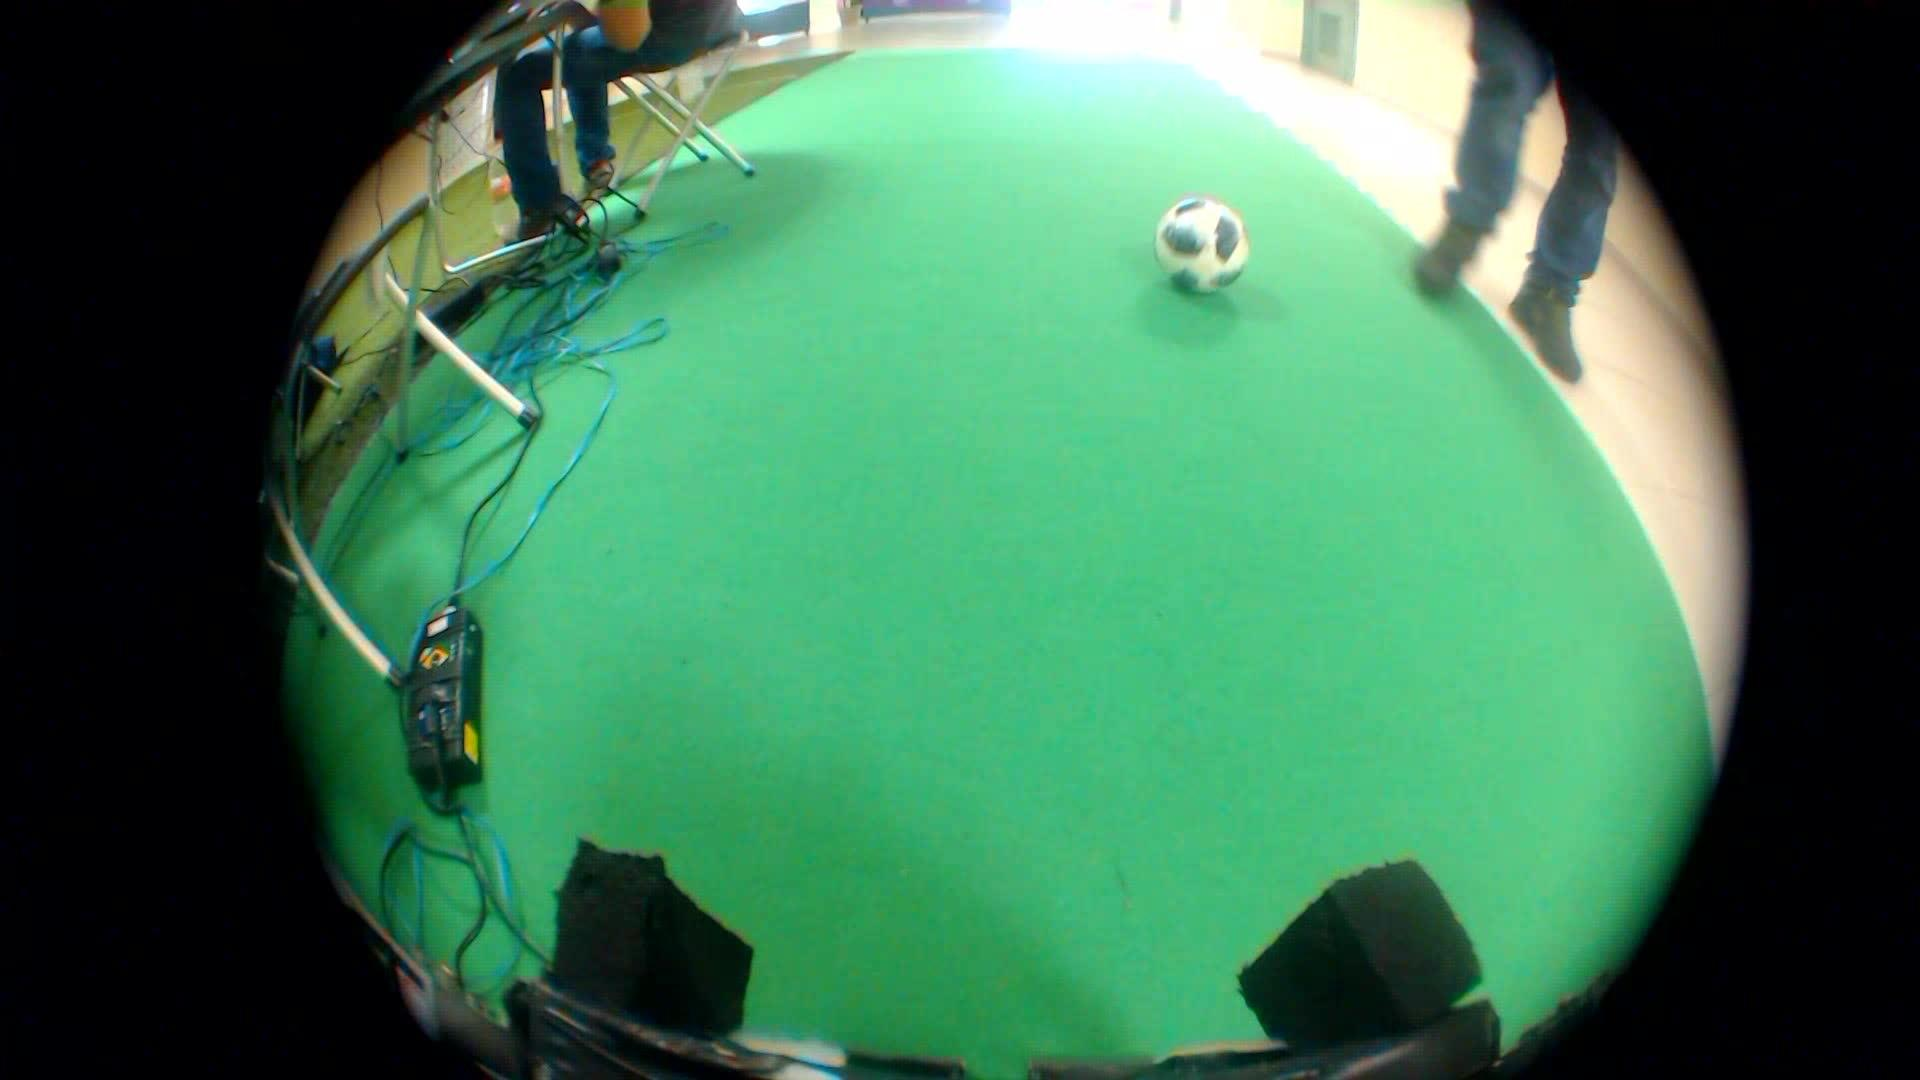ball: (1141, 178, 1265, 305)
